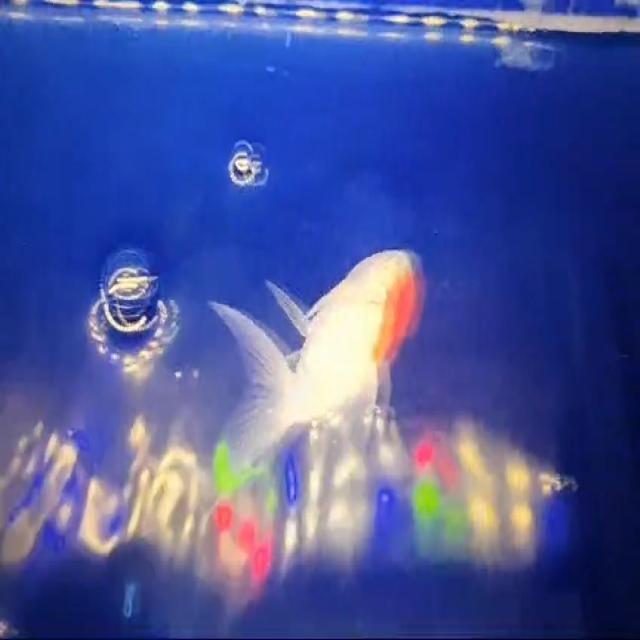fish: (208, 241, 446, 495)
